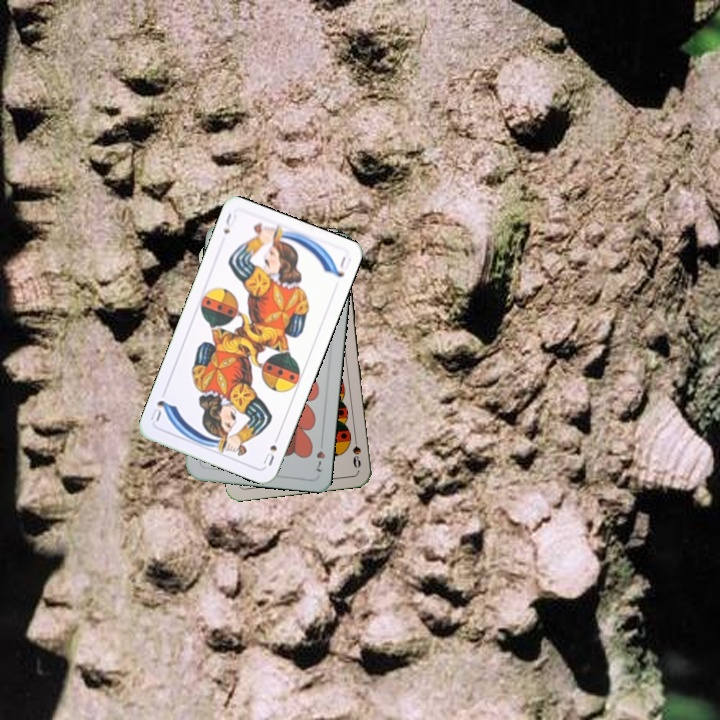H7: (312, 435, 328, 475)
S9: (349, 430, 364, 471)
SU: (259, 430, 282, 468), (219, 209, 239, 236)
